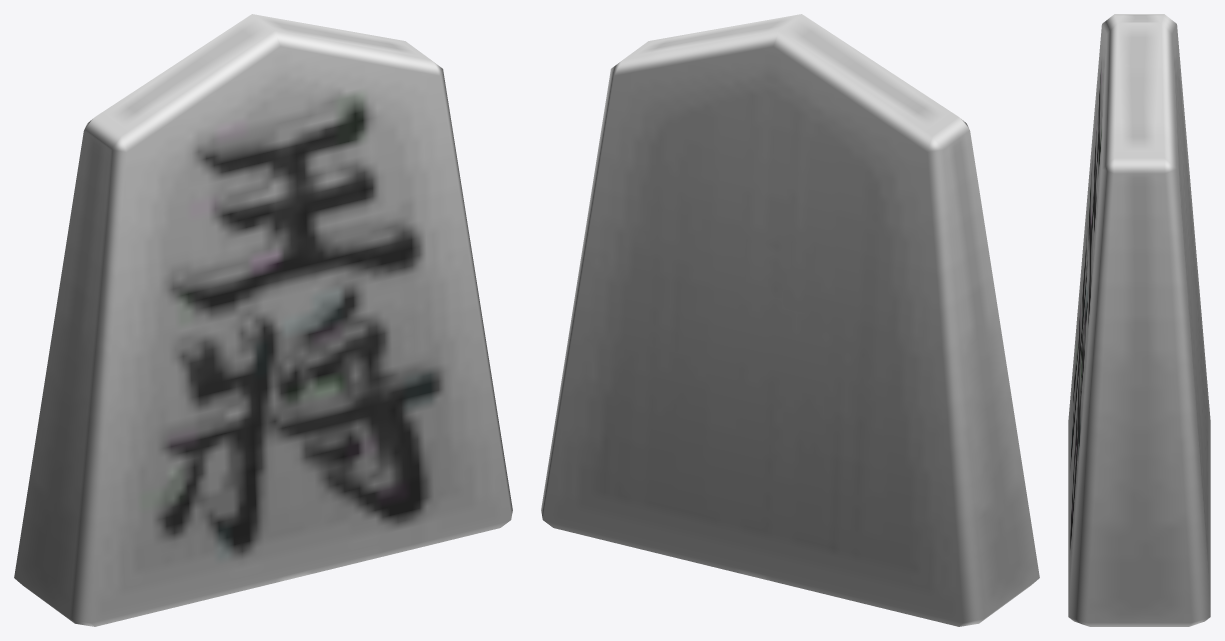
Rendered from rmk_oth_syogikoma_mtl.dae.
The picture shows the model from 3 angles, left to right: view 1: azimuth 30°, elevation 25°; view 2: azimuth 150°, elevation 25°; view 3: azimuth 270°, elevation 25°; orthographic projection. The views are drawn at different scales.
Parts seen in each view (by area): view 1: rmk_oth_syogikoma_mtl; view 2: rmk_oth_syogikoma_mtl; view 3: rmk_oth_syogikoma_mtl.
Boxes of the visible parts, bbox=[...] form: rmk_oth_syogikoma_mtl: bbox=[14, 14, 512, 626]; rmk_oth_syogikoma_mtl: bbox=[541, 14, 1039, 626]; rmk_oth_syogikoma_mtl: bbox=[1068, 14, 1210, 626].
Size of the model in its own units: 25.22 by 28.8 by 7.37.
1 material, 1 textured.
